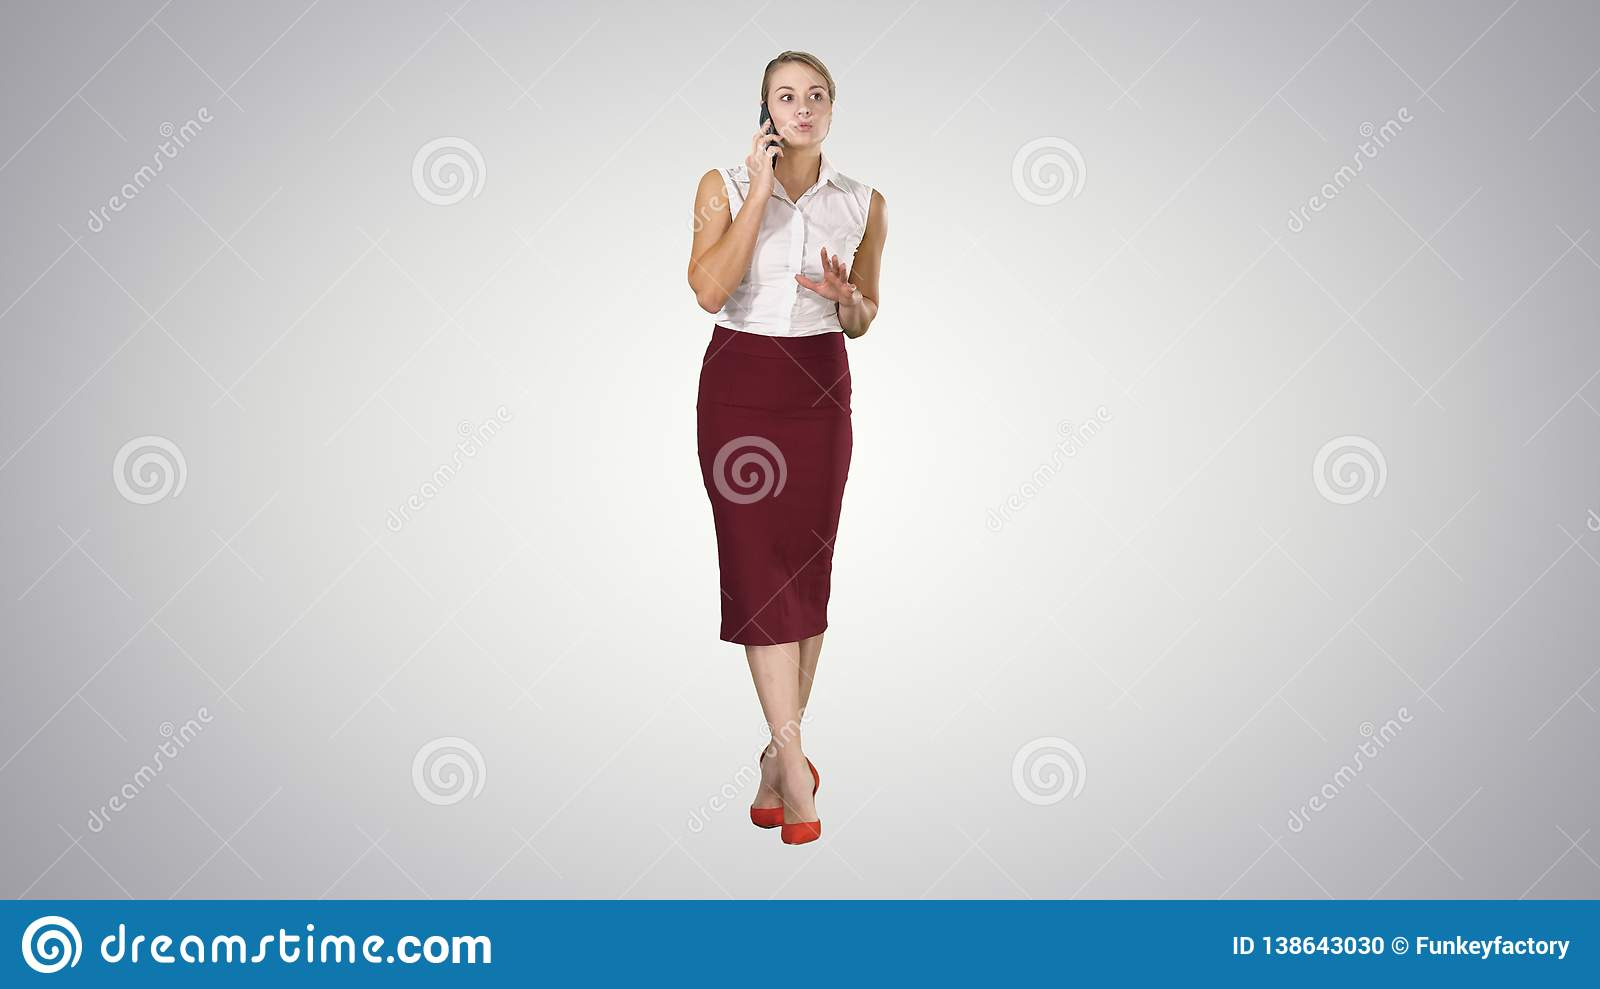phone: (758, 103, 779, 173)
talk: (744, 81, 827, 199)
